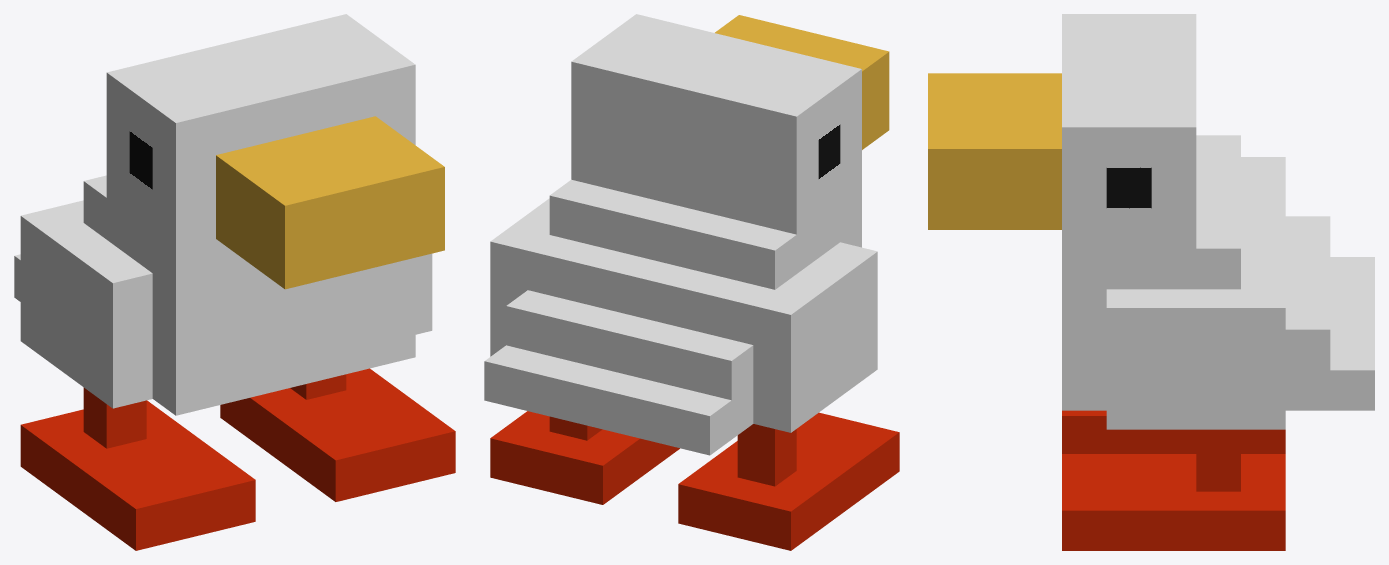
File: Duck.dae
3 renders of one model, left to right at view 1: azimuth 30°, elevation 25°; view 2: azimuth 150°, elevation 25°; view 3: azimuth 270°, elevation 25°, orthographic. The views are drawn at different scales.
Visible parts, largest first — view 1: Matrix; view 2: Matrix; view 3: Matrix.
Boxes of the visible parts, box(x1,y1,x2,y2) form: Matrix: box(14, 14, 455, 550); Matrix: box(484, 14, 899, 550); Matrix: box(928, 14, 1374, 550).
Size of the model in its own units: 8 by 10 by 10.
